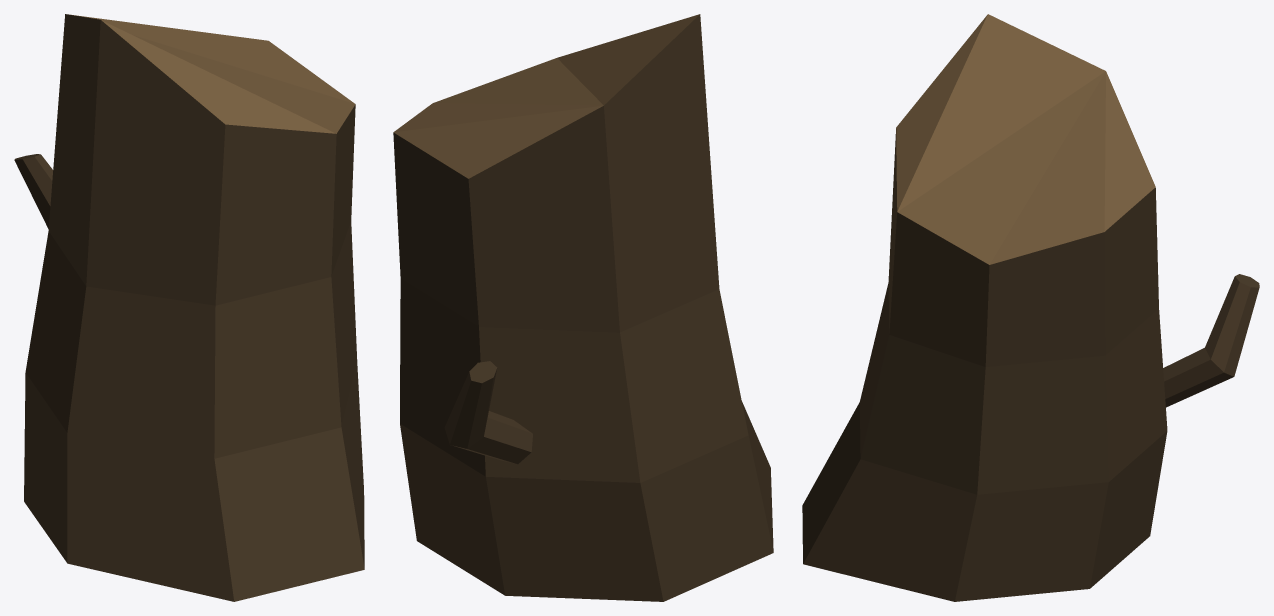
The model's file is tree_moody_stump.glb.
3 renders of one model, left to right at view 1: azimuth 30°, elevation 25°; view 2: azimuth 150°, elevation 25°; view 3: azimuth 270°, elevation 25°, orthographic. The views are drawn at different scales.
Visible parts, largest first — view 1: Trunk, TrunkEnd, Branch.001; view 2: Trunk, TrunkEnd, Branch.001; view 3: Trunk, TrunkEnd, Branch.001.
Part boxes in pixels (<box>): Trunk: <box>24,14,364,601</box>; TrunkEnd: <box>68,14,355,133</box>; Branch.001: <box>14,154,53,228</box>; Trunk: <box>393,14,773,601</box>; TrunkEnd: <box>393,14,699,178</box>; Branch.001: <box>444,361,532,464</box>; Trunk: <box>802,129,1167,601</box>; TrunkEnd: <box>896,14,1155,264</box>; Branch.001: <box>1163,274,1259,407</box>.
Bounding box in the file's own units: 3.36 × 5.41 × 4.69.
